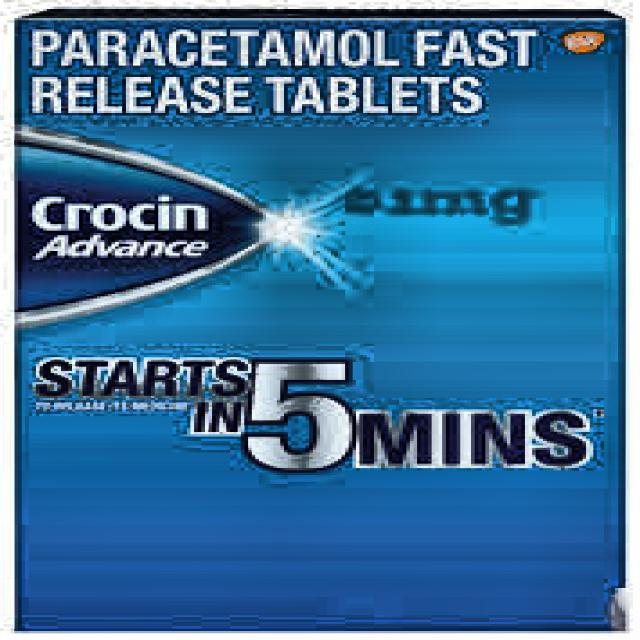Crocin: (14, 134, 288, 315)
